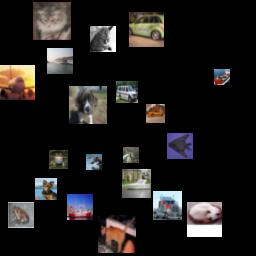airplane: (0, 65, 35, 100), (167, 133, 193, 159)
automobile: (129, 12, 164, 47), (116, 81, 138, 103), (146, 104, 165, 123)
bird: (123, 147, 139, 163)
cat: (33, 2, 71, 40), (98, 215, 136, 253), (187, 202, 222, 237), (90, 26, 116, 52)
deer: (86, 154, 102, 170)
dog: (69, 86, 107, 124), (35, 178, 57, 200)
frog: (8, 202, 34, 228), (49, 150, 68, 169)
ship: (122, 169, 151, 198), (47, 48, 73, 74), (67, 194, 93, 220), (214, 69, 230, 85)
truck: (153, 191, 182, 220)
